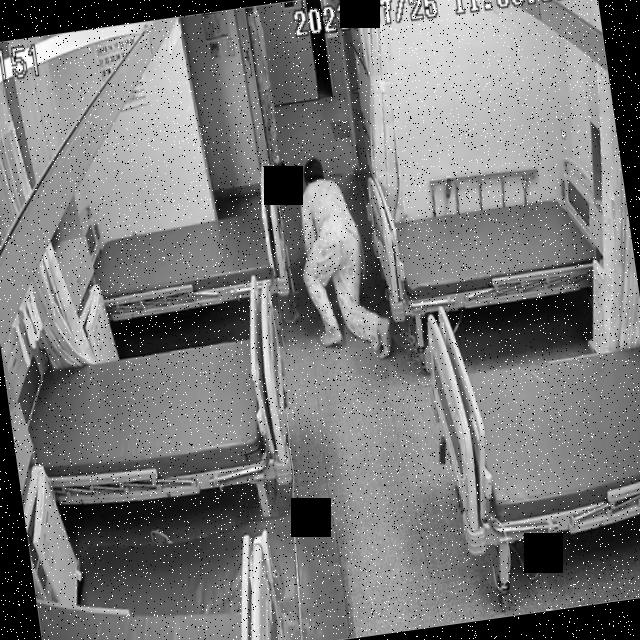bed: (419, 279, 640, 552), (17, 324, 299, 512), (366, 173, 614, 323), (89, 198, 290, 320)
fall: (282, 142, 400, 372)
patient: (282, 140, 399, 369)
